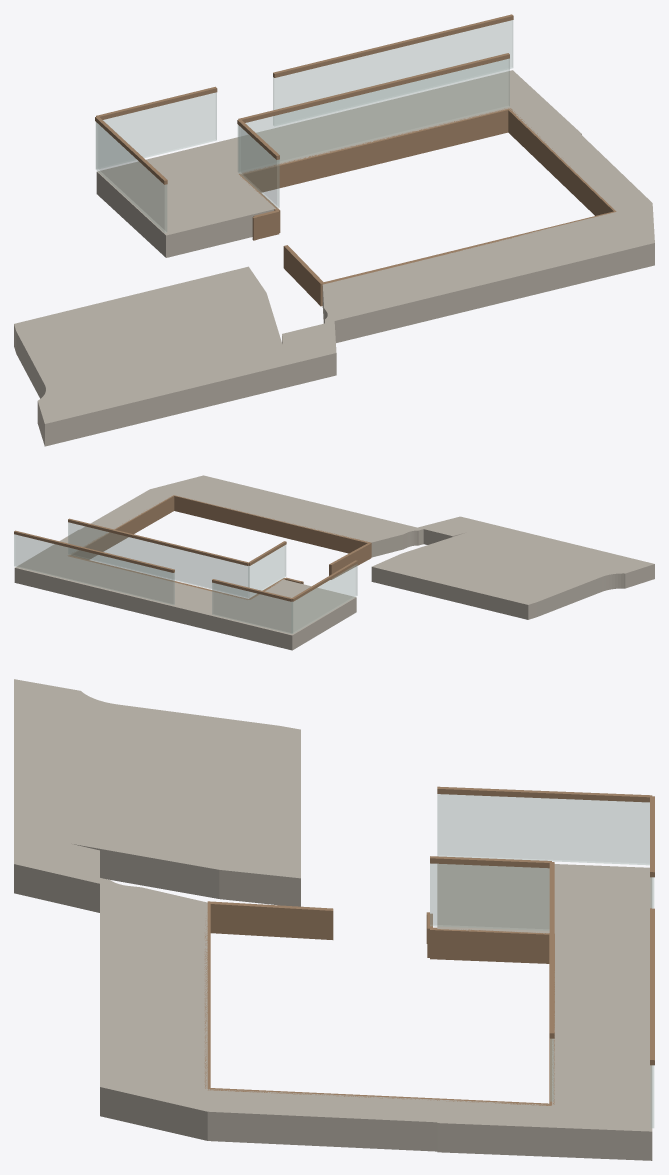
File: PERIMETER_797_r001.glb
3 renders of one model, top to bottom at view 1: azimuth 30°, elevation 25°; view 2: azimuth 150°, elevation 25°; view 3: azimuth 270°, elevation 25°, orthographic. The views are drawn at different scales.
Visible parts, largest first — view 1: G2P_797_TERRACE_00, G2P_797_RearGuardGlass_0, G2P_797_OuterGuard_2, G2P_797_PitEdge_2_0, G2P_797_OuterGuard_1, G2P_797_OuterGuard_0, G2P_797_PitEdge_1_0, G2P_797_RearGuardGlass_1, G2P_797_RearGuardRail_0, G2P_797_OuterRail_2, G2P_797_PitEdge_5_0, G2P_797_OuterRail_1 (+1 smaller); view 2: G2P_797_TERRACE_00, G2P_797_RearGuardGlass_0, G2P_797_OuterGuard_2, G2P_797_PitEdge_0_0, G2P_797_OuterGuard_1, G2P_797_OuterGuard_0, G2P_797_PitEdge_1_0, G2P_797_RearGuardGlass_1, G2P_797_RearGuardRail_0, G2P_797_OuterRail_2, G2P_797_PitEdge_5_0, G2P_797_OuterRail_1 (+2 smaller); view 3: G2P_797_TERRACE_00, G2P_797_OuterGuard_0, G2P_797_RearGuardGlass_1, G2P_797_PitEdge_5_0, G2P_797_PitEdge_3_0, G2P_797_OuterRail_0, G2P_797_RearGuardRail_0, G2P_797_PitEdge_0_0, G2P_797_RearGuardRail_1, G2P_797_PitEdge_1_0, G2P_797_OuterRail_2.
Boxes of the visible parts, box(x1,y1,x2,y2) form: G2P_797_TERRACE_00: box(14, 70, 654, 446); G2P_797_RearGuardGlass_0: box(239, 58, 509, 172); G2P_797_OuterGuard_2: box(273, 20, 512, 125); G2P_797_PitEdge_2_0: box(239, 108, 508, 192); G2P_797_OuterGuard_1: box(96, 92, 216, 169); G2P_797_OuterGuard_0: box(96, 122, 166, 232); G2P_797_PitEdge_1_0: box(507, 108, 615, 215); G2P_797_RearGuardGlass_1: box(238, 125, 279, 208); G2P_797_RearGuardRail_0: box(238, 53, 509, 122); G2P_797_OuterRail_2: box(273, 14, 513, 77); G2P_797_PitEdge_5_0: box(283, 245, 323, 306); G2P_797_OuterRail_1: box(96, 86, 217, 119); G2P_797_TERRACE_00: box(14, 475, 654, 650); G2P_797_RearGuardGlass_0: box(68, 522, 249, 597); G2P_797_OuterGuard_2: box(14, 534, 174, 604); G2P_797_PitEdge_0_0: box(173, 495, 371, 557); G2P_797_OuterGuard_1: box(212, 583, 292, 633); G2P_797_OuterGuard_0: box(291, 564, 357, 633); G2P_797_PitEdge_1_0: box(68, 495, 174, 559); G2P_797_RearGuardGlass_1: box(248, 545, 285, 597); G2P_797_RearGuardRail_0: box(68, 518, 249, 565); G2P_797_OuterRail_2: box(14, 530, 174, 572); G2P_797_PitEdge_5_0: box(329, 543, 371, 579); G2P_797_OuterRail_1: box(212, 579, 292, 601); G2P_797_TERRACE_00: box(14, 679, 652, 1160); G2P_797_OuterGuard_0: box(437, 794, 649, 864); G2P_797_RearGuardGlass_1: box(430, 863, 549, 930); G2P_797_PitEdge_5_0: box(207, 901, 333, 939); G2P_797_PitEdge_3_0: box(430, 927, 549, 963); G2P_797_OuterRail_0: box(437, 786, 652, 802); G2P_797_RearGuardRail_0: box(549, 862, 554, 1038); G2P_797_PitEdge_0_0: box(204, 902, 210, 1088); G2P_797_RearGuardRail_1: box(430, 856, 551, 868); G2P_797_PitEdge_1_0: box(208, 1088, 551, 1105); G2P_797_OuterRail_2: box(650, 908, 654, 1065).
Bounding box in the file's own units: 14.93 × 1.55 × 8.93.
